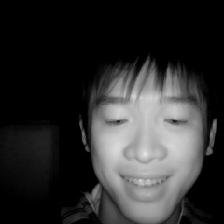happy: (68, 33, 221, 222)
